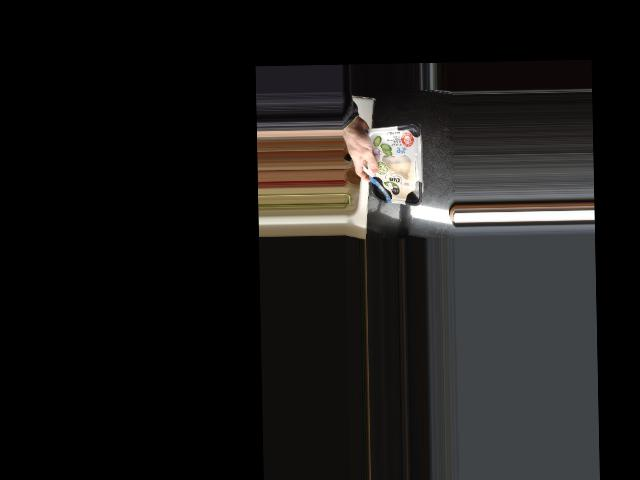cheese: (361, 124, 422, 205)
